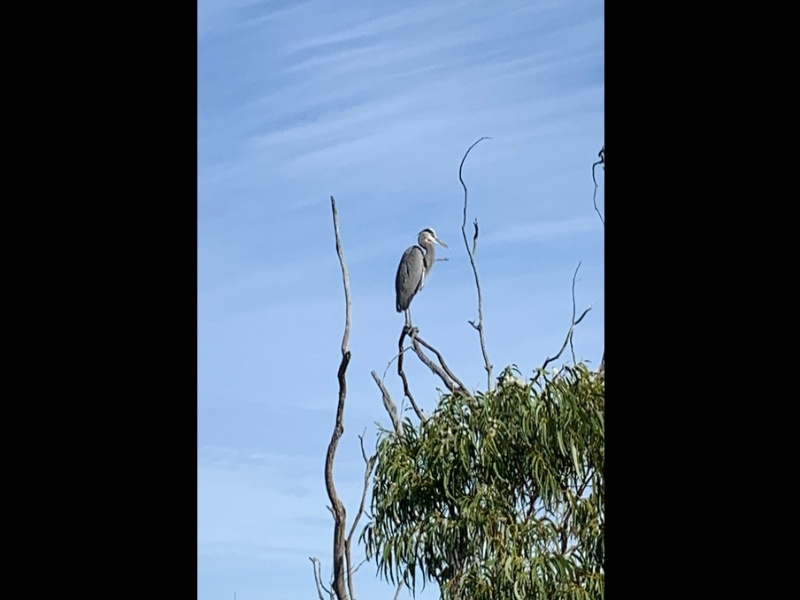heron: (392, 226, 449, 350)
